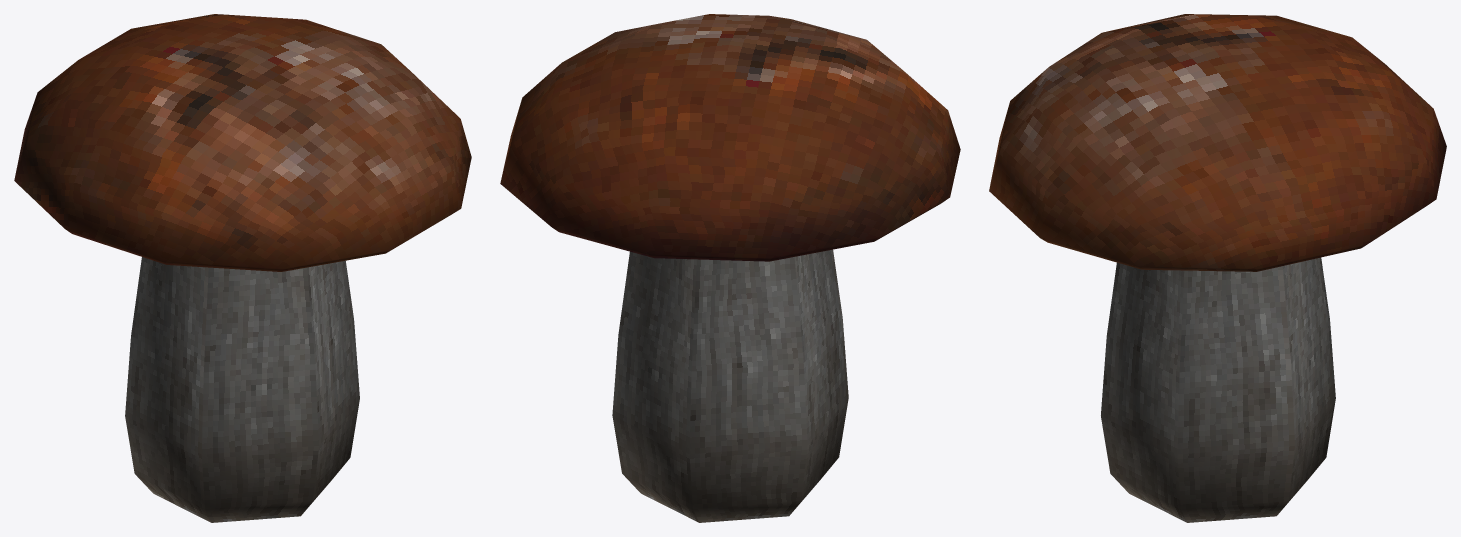
The model's file is mushroom_n_1.glb.
3 views of the same model, side by side, from view 1: azimuth 30°, elevation 25°; view 2: azimuth 150°, elevation 25°; view 3: azimuth 270°, elevation 25° (orthographic).
Visible parts, largest first — view 1: mushroom_n_1; view 2: mushroom_n_1; view 3: mushroom_n_1.
Part boxes in pixels (x1=…): mushroom_n_1: x1=14, y1=14, x2=471, y2=522; mushroom_n_1: x1=500, y1=14, x2=960, y2=522; mushroom_n_1: x1=989, y1=14, x2=1446, y2=522.
Bounding box in the file's own units: 0.2729 × 0.288 × 0.2729.
1 material, 1 textured.
